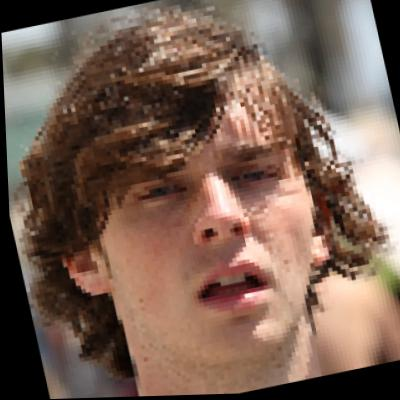surprise: (75, 70, 329, 380)
